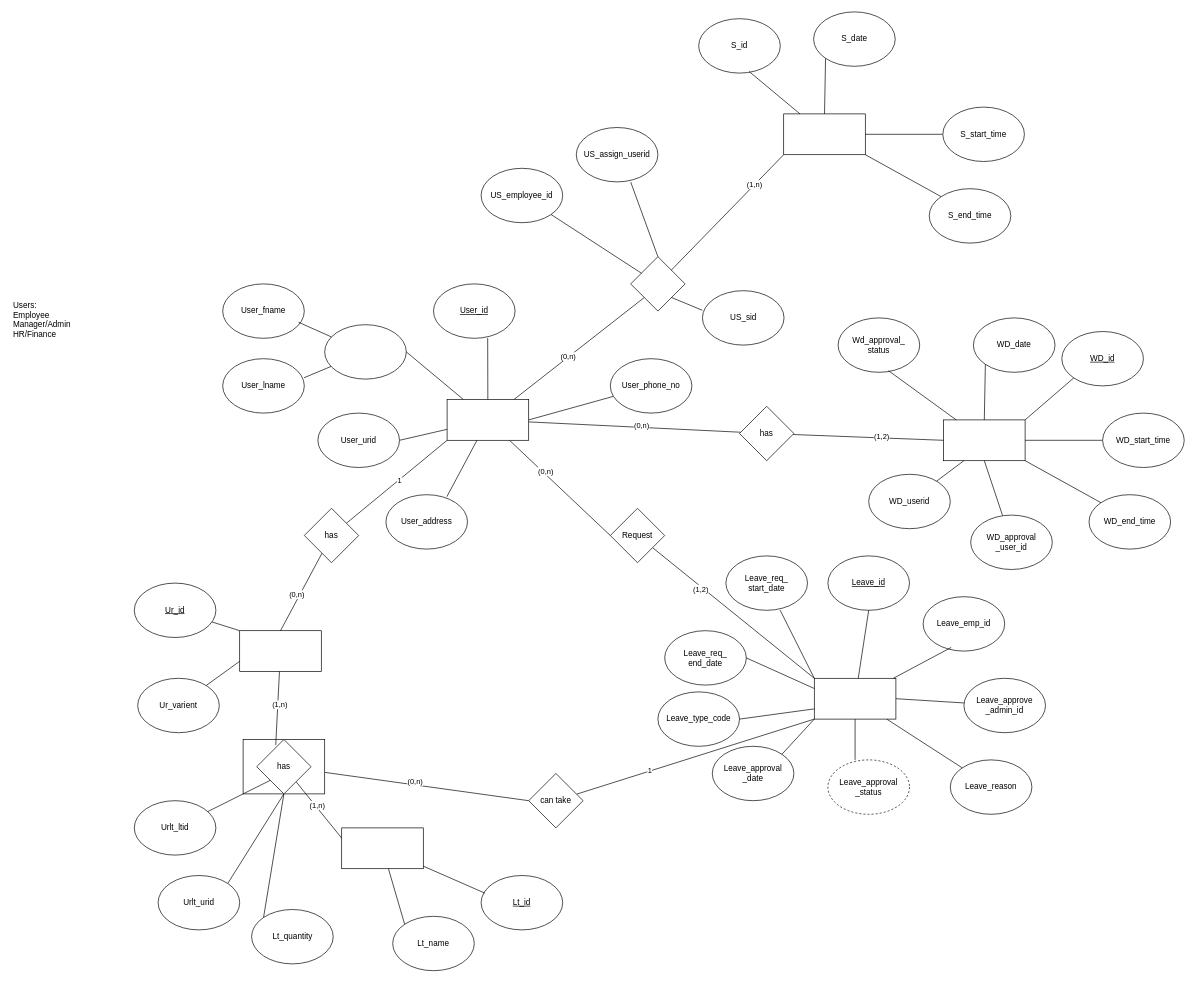
Image size: 1196x983. Some labels were removed from this diagram. The shapes that lost their labels are listed below. From the top down, each one's centre as x and y in pixels, then its label:
point (824, 134): Shift
point (657, 283): assign
point (365, 351): User_name
point (487, 419): User
point (984, 440): Work_Duration
point (280, 651): User_role
point (855, 698): Leave
point (382, 848): Leave_type
